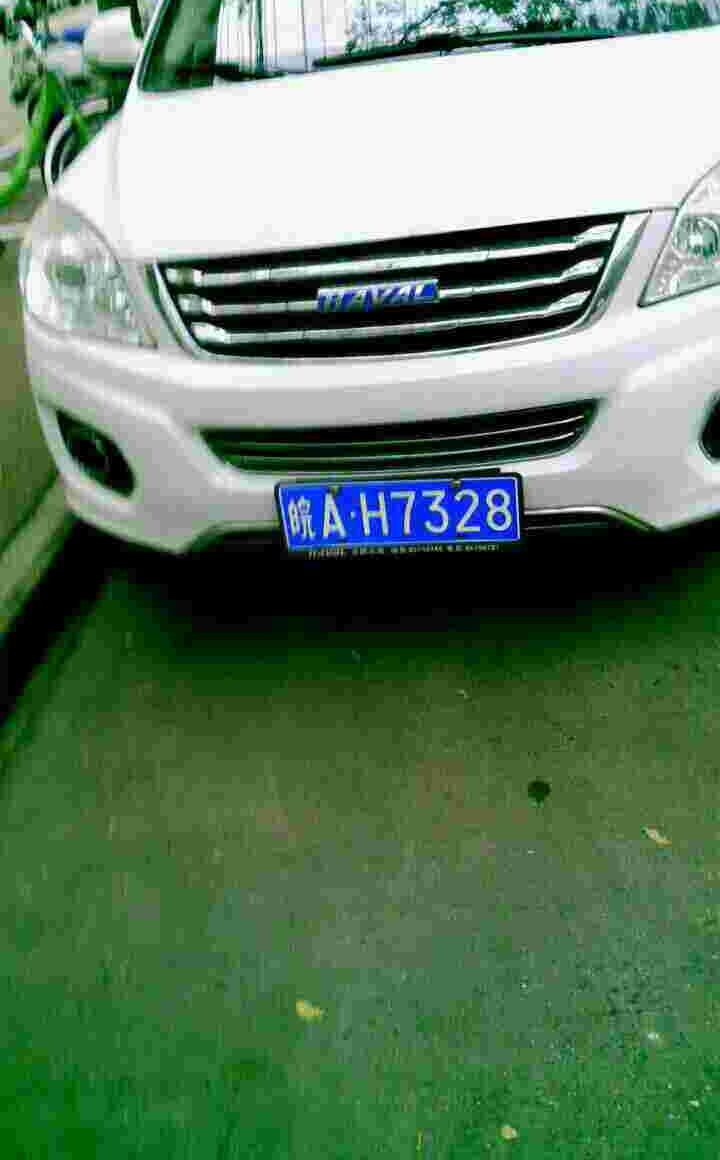license_plate: (281, 473, 509, 555)
